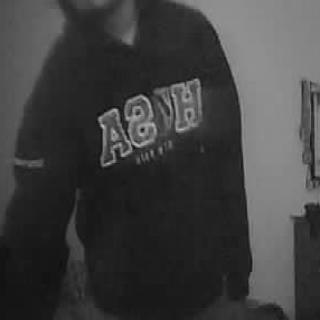HOSA hoodie: (7, 0, 245, 308)
